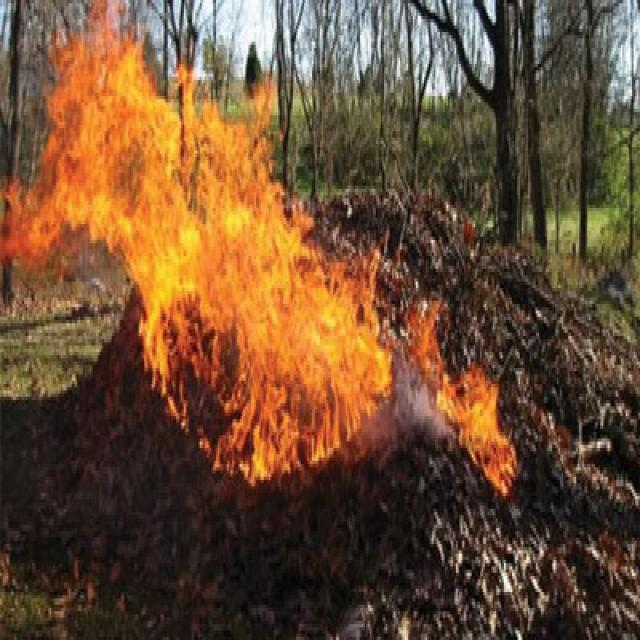Fire: (0, 0, 528, 510)
